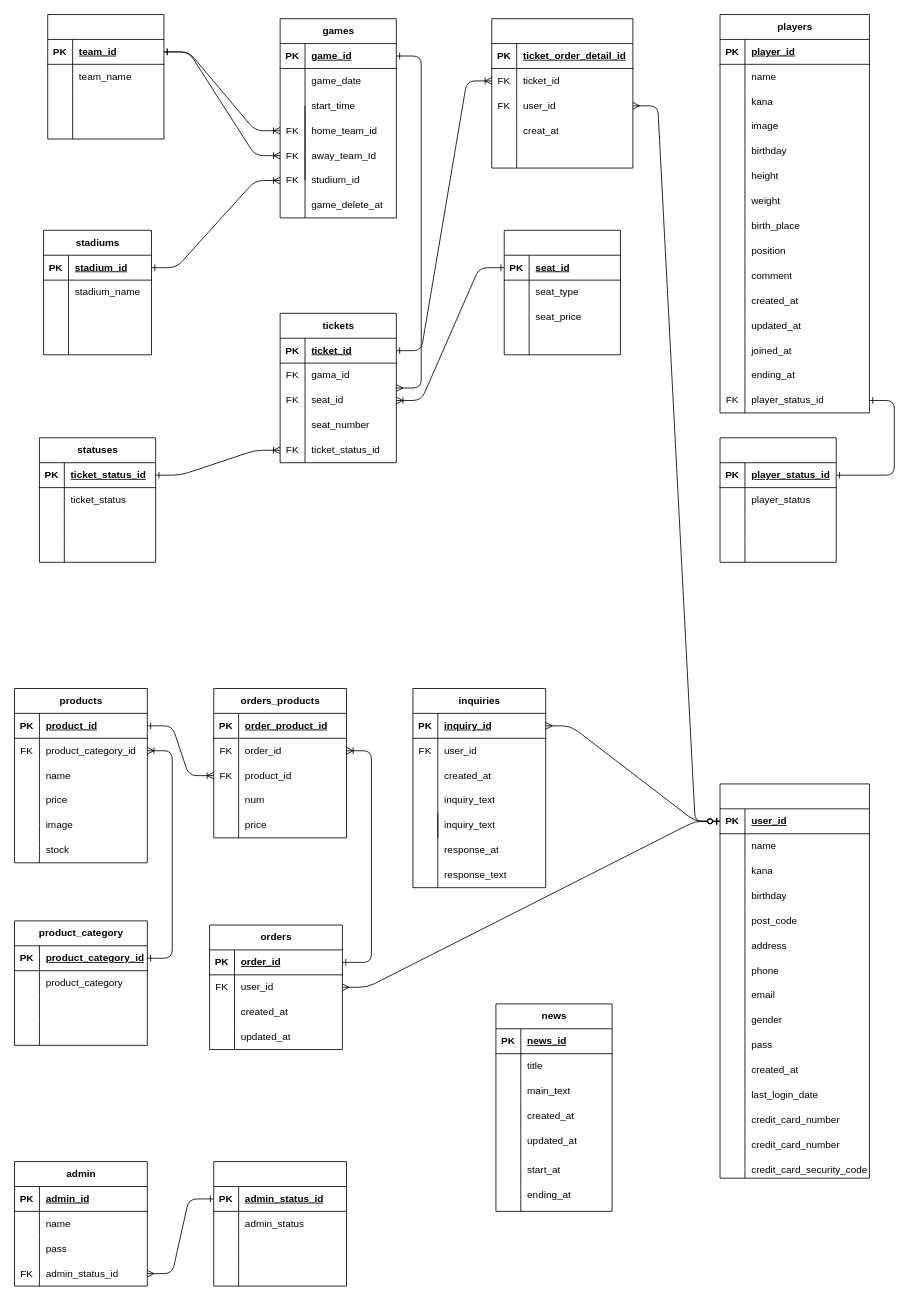
Image size: 916x1301. Some labels were removed from this diagram. Here are the shapes that lost their labels. From the top down, the box of each, then its label:
(47, 14, 164, 139): teams
(491, 18, 633, 168): ticket_order_details
(503, 229, 620, 355): seats
(719, 437, 836, 562): player_statuses
(719, 783, 869, 1178): members
(213, 1161, 347, 1286): admin_statuses
